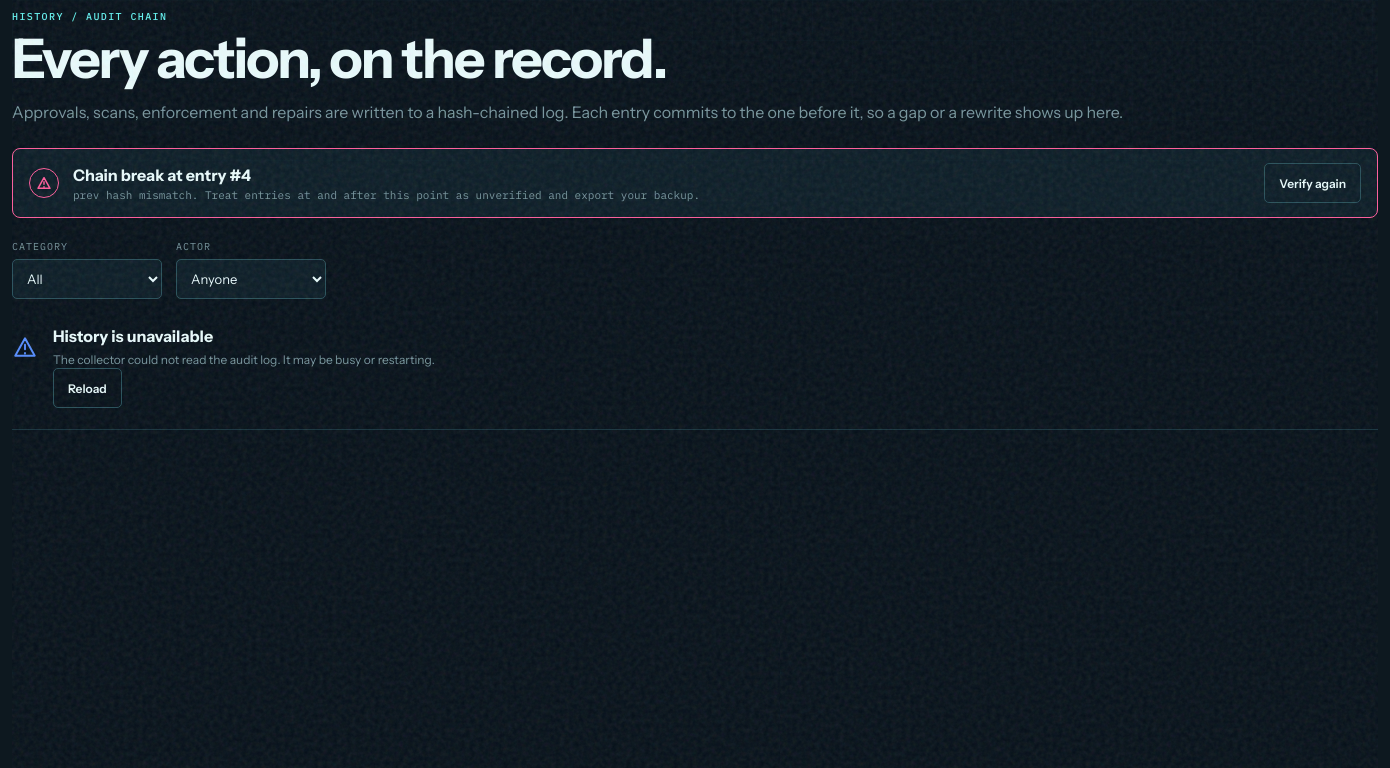
Scenario: HistoryView › surfaces a chain break and a load failure with a reload path
Expected: the text "Chain break at entry #4" is shown, [73,165,251,185]
Expected: the text "History is unavailable" is shown, [53,326,213,346]
Click the button "Reload".
click(87, 388)  # box [53,368,122,408]
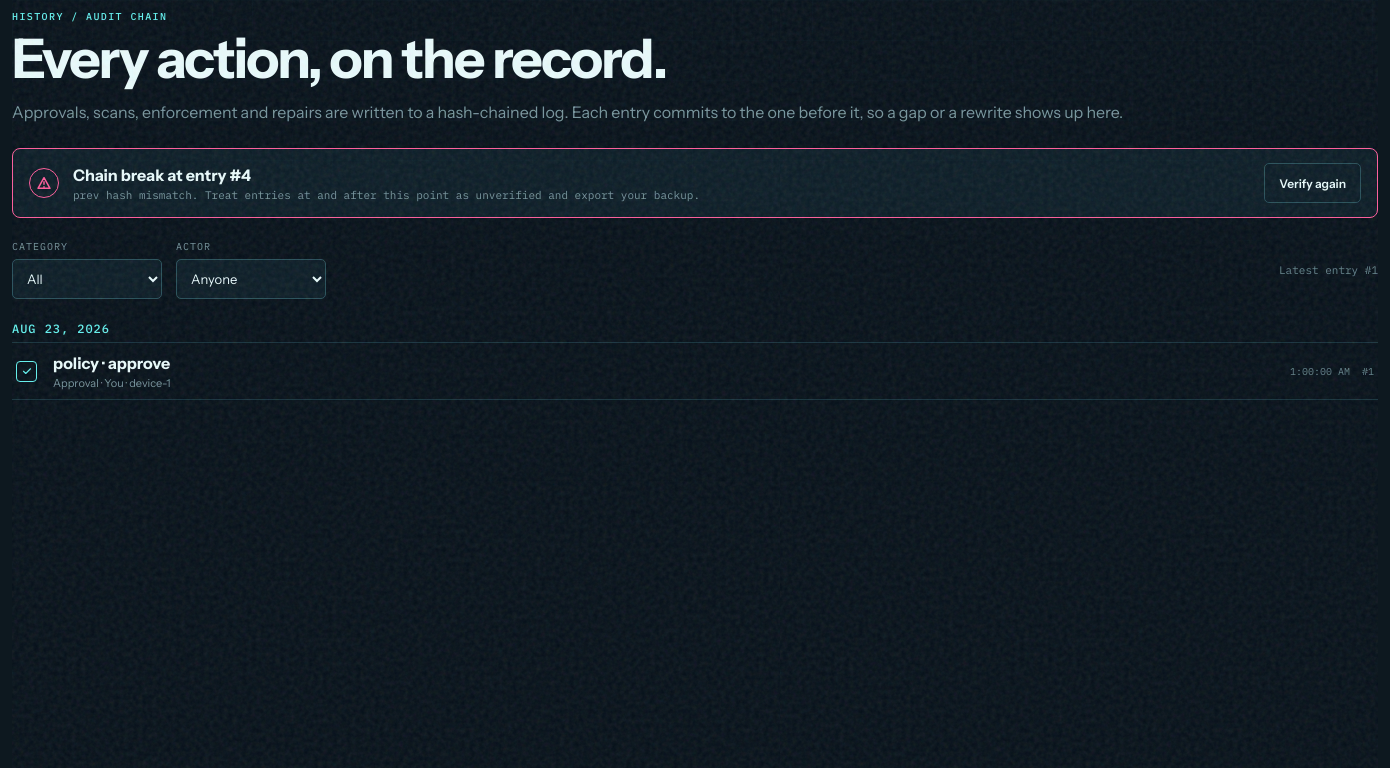
Now the number of list items with class "audit-row" is 1, box [12,343,1378,400]
